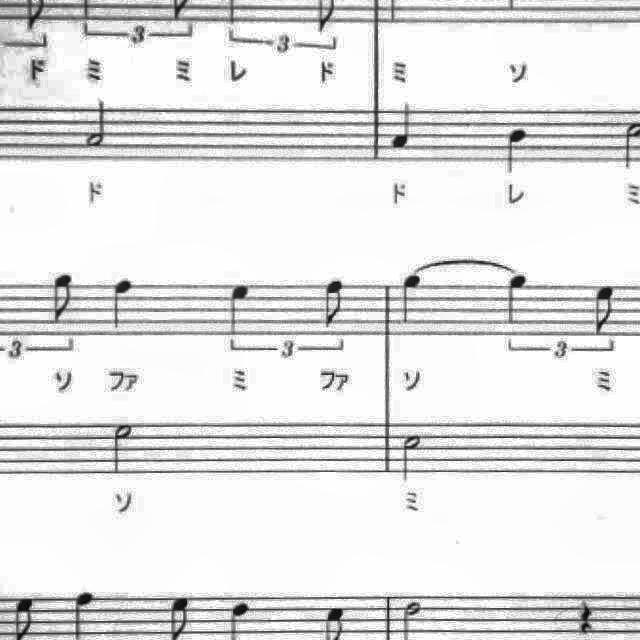Eighth-note: (46, 266, 84, 330), (316, 274, 352, 338), (585, 280, 623, 340)
Half-note: (104, 419, 140, 481), (392, 429, 428, 487), (80, 95, 116, 153)
Quarter-note: (222, 278, 258, 346), (102, 274, 140, 338), (394, 267, 432, 329), (387, 99, 425, 157), (501, 268, 535, 330), (498, 122, 534, 180)
Quarter-rest: (572, 594, 604, 640)
